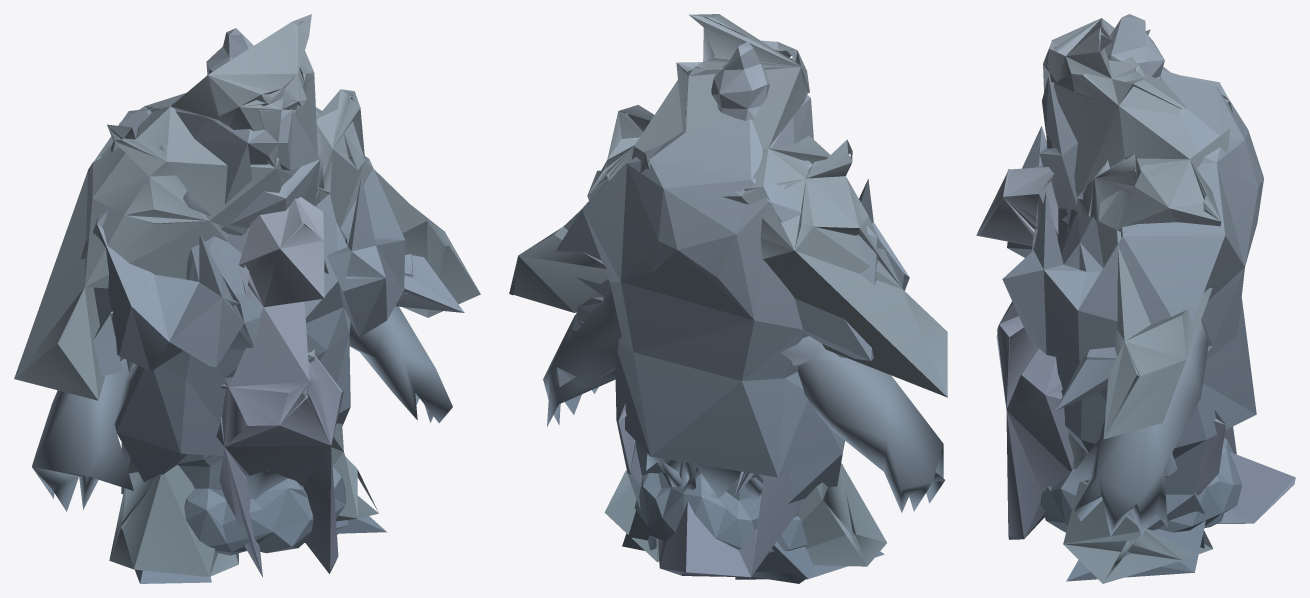
Rendered from giants_far.glb.
The picture shows the model from 3 angles, left to right: view 1: azimuth 30°, elevation 25°; view 2: azimuth 150°, elevation 25°; view 3: azimuth 270°, elevation 25°; orthographic projection.
Visible parts, largest first — view 1: far_giant_treefolk, far_giant_ogre, far_giant_dragon, far_giant_firegiant, far_giant_cloudgiant, far_giant_frostgiant; view 2: far_giant_ogre, far_giant_treefolk, far_giant_firegiant, far_giant_cloudgiant, far_giant_dragon, far_giant_cyclops; view 3: far_giant_ogre, far_giant_treefolk, far_giant_dragon, far_giant_firegiant, far_giant_cloudgiant, far_giant_frostgiant.
Boxes of the visible parts, x1=… form: far_giant_treefolk: x1=14, y1=14, x2=480, y2=576; far_giant_ogre: x1=80, y1=93, x2=405, y2=583; far_giant_dragon: x1=121, y1=197, x2=343, y2=577; far_giant_firegiant: x1=32, y1=133, x2=452, y2=542; far_giant_cloudgiant: x1=126, y1=28, x2=345, y2=555; far_giant_frostgiant: x1=93, y1=254, x2=464, y2=529; far_giant_ogre: x1=556, y1=95, x2=909, y2=579; far_giant_treefolk: x1=509, y1=14, x2=947, y2=566; far_giant_firegiant: x1=543, y1=289, x2=945, y2=583; far_giant_cloudgiant: x1=634, y1=42, x2=842, y2=553; far_giant_dragon: x1=618, y1=403, x2=805, y2=577; far_giant_cyclops: x1=555, y1=297, x2=604, y2=387; far_giant_ogre: x1=1002, y1=70, x2=1263, y2=581; far_giant_treefolk: x1=1043, y1=18, x2=1232, y2=583; far_giant_dragon: x1=976, y1=165, x2=1295, y2=539; far_giant_firegiant: x1=1061, y1=160, x2=1208, y2=548; far_giant_cloudgiant: x1=1040, y1=14, x2=1242, y2=532; far_giant_frostgiant: x1=1056, y1=347, x2=1116, y2=410.
Bounding box in the file's own units: 34.43 × 38.57 × 21.36.
